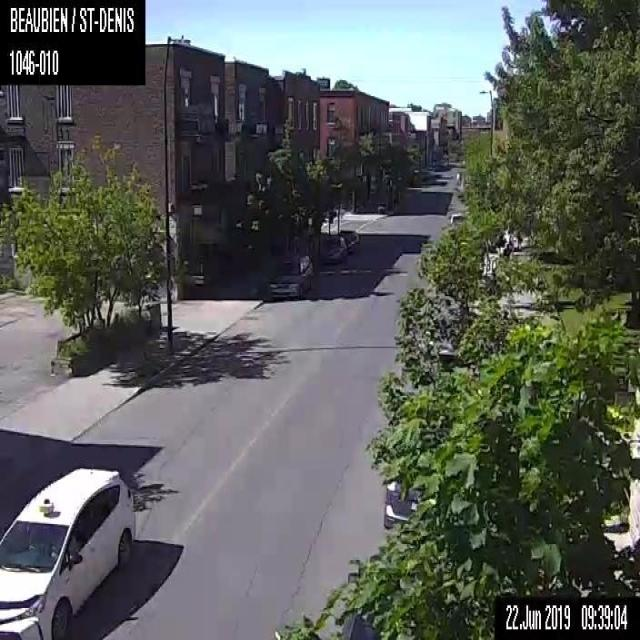vehicle: (0, 464, 135, 638), (336, 555, 398, 637), (266, 251, 313, 300), (384, 484, 414, 529), (320, 236, 346, 264), (338, 228, 359, 255), (449, 211, 465, 224)
